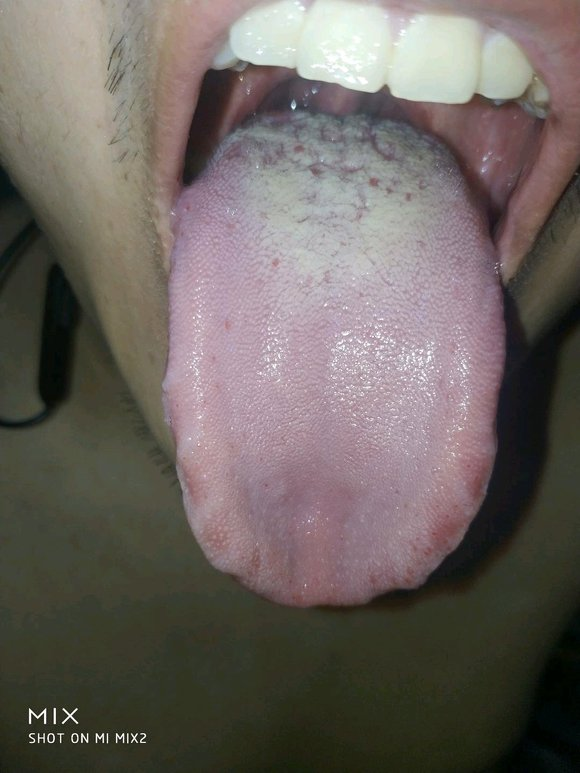hongdianshe: (290, 141, 305, 158), (366, 173, 380, 190), (401, 190, 414, 203)
huangtaishe: (161, 102, 505, 611)
